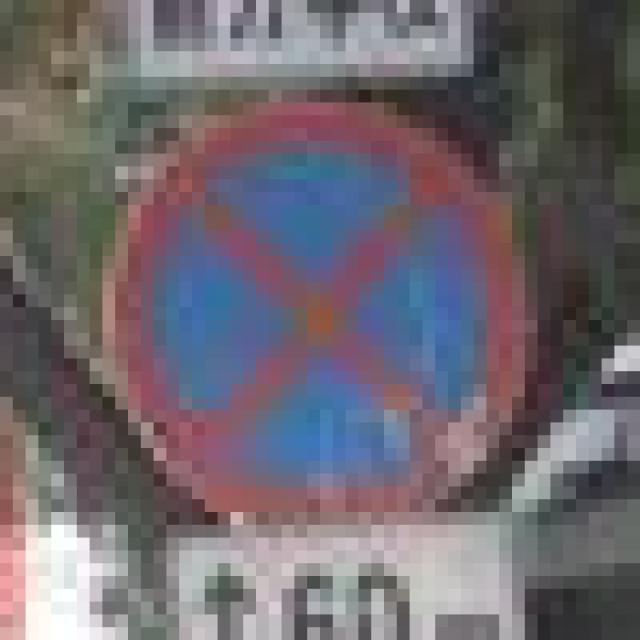no stopping or standing: (108, 94, 541, 554)
